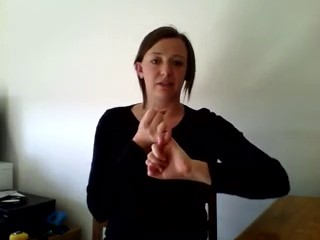S: (137, 105, 189, 185)
